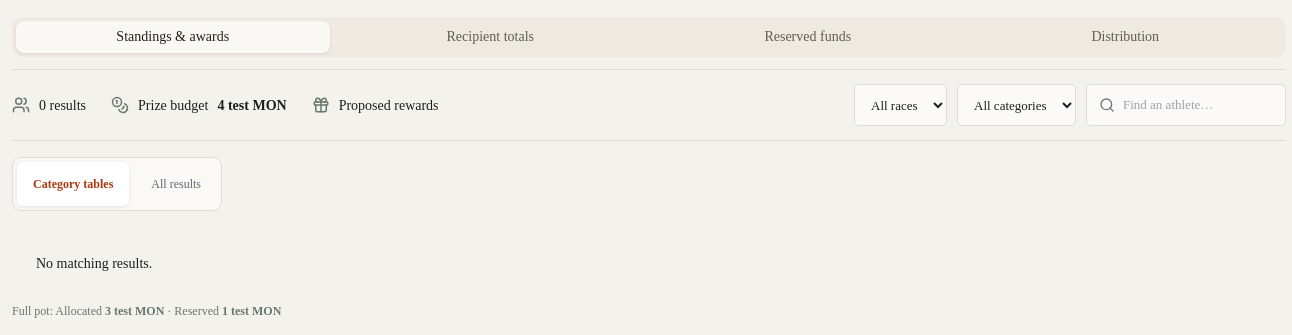
Test case: does not manufacture aggregate identity when older records lack totals
Press the mouse on the tab "Recipient totals" at (490, 37), box [334,21,647,53]
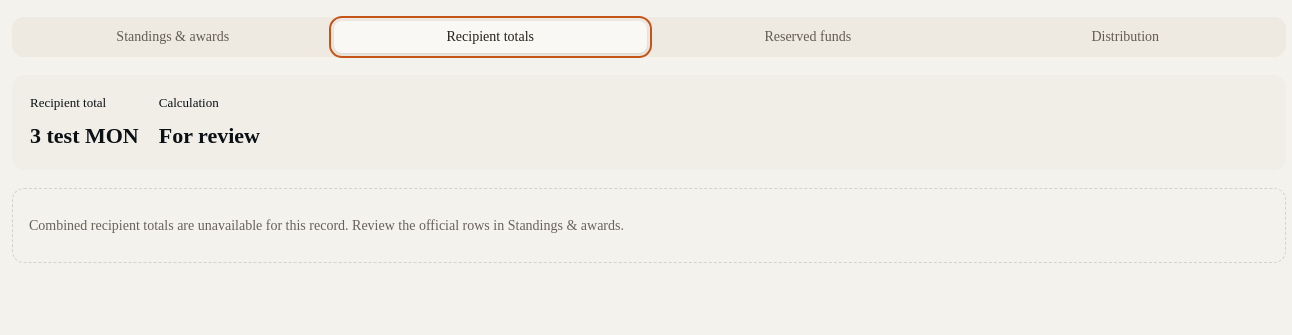
Check: the message shows "unavailable for this record", box [29,218,624,232]
